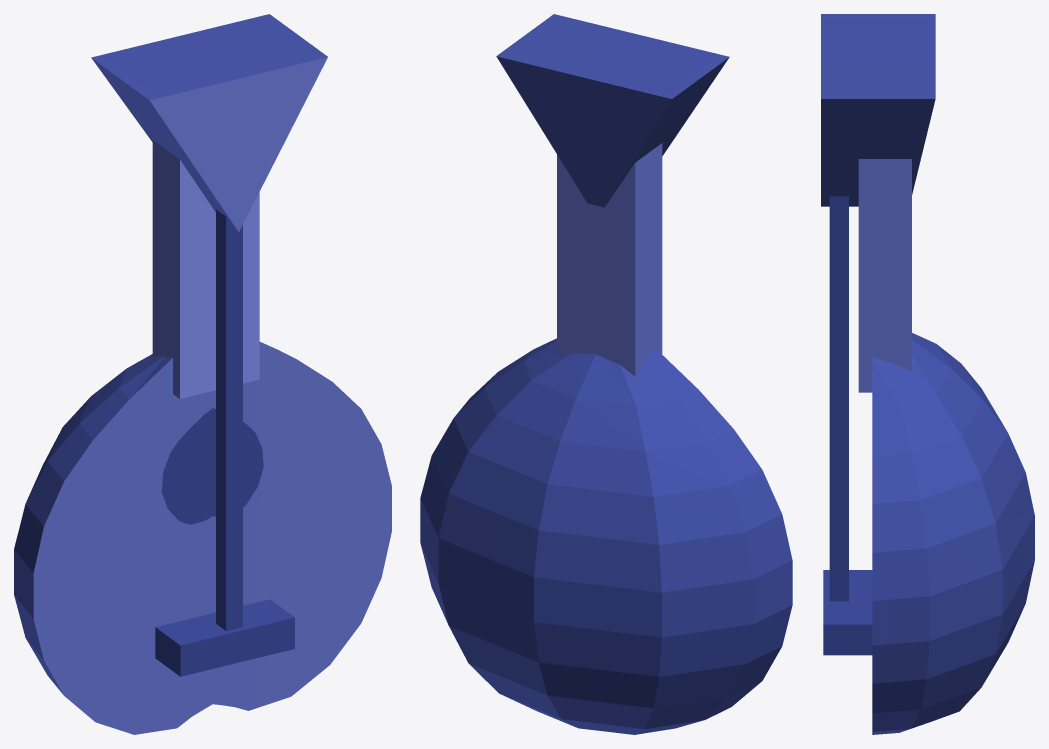
The model's file is Props_Instruments_Mandolin.fbx.
3 views of the same model, side by side, from view 1: azimuth 30°, elevation 25°; view 2: azimuth 150°, elevation 25°; view 3: azimuth 270°, elevation 25° (orthographic). The views are drawn at different scales.
Parts seen in each view (by area): view 1: Props_Instruments_Mandolin; view 2: Props_Instruments_Mandolin; view 3: Props_Instruments_Mandolin.
Part boxes in pixels (x1,y1,x2,y2): Props_Instruments_Mandolin: [14, 14, 391, 734]; Props_Instruments_Mandolin: [420, 14, 792, 734]; Props_Instruments_Mandolin: [821, 14, 1034, 734].
Bounding box in the file's own units: 0.3957 × 0.6964 × 0.2094.
